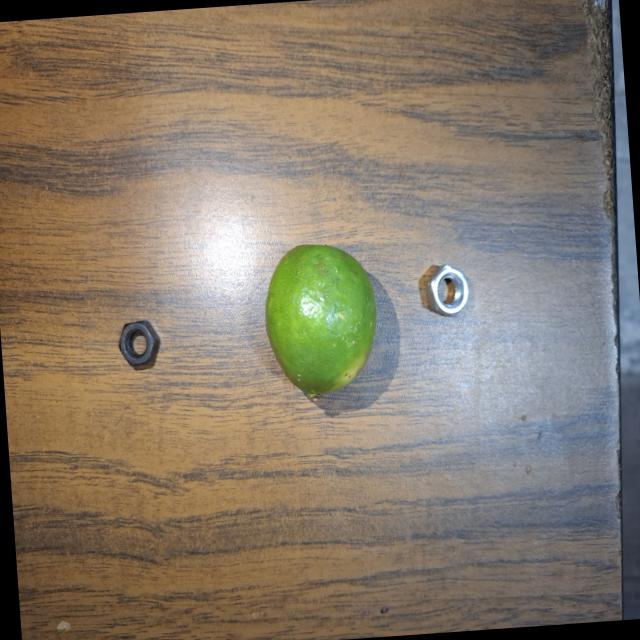limon: (261, 237, 382, 408)
milimetrico: (101, 312, 174, 377)
tuerca: (410, 247, 488, 336)
